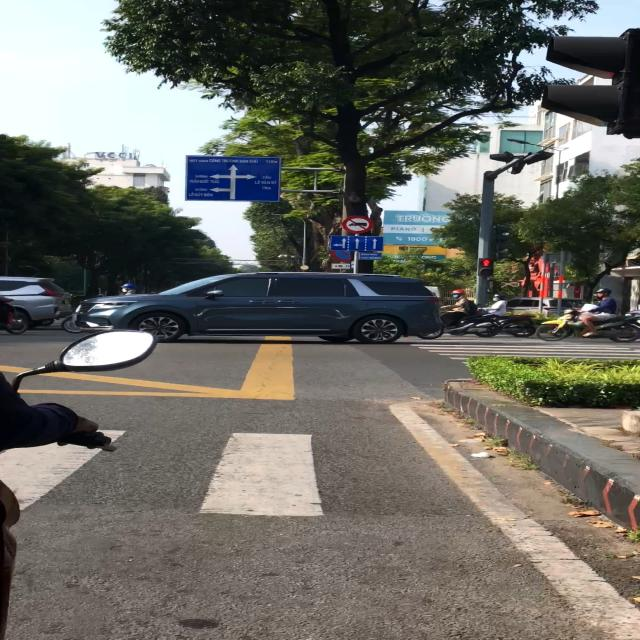Bien bao cam xe so-mi ro-mooc: (340, 214, 378, 234)
